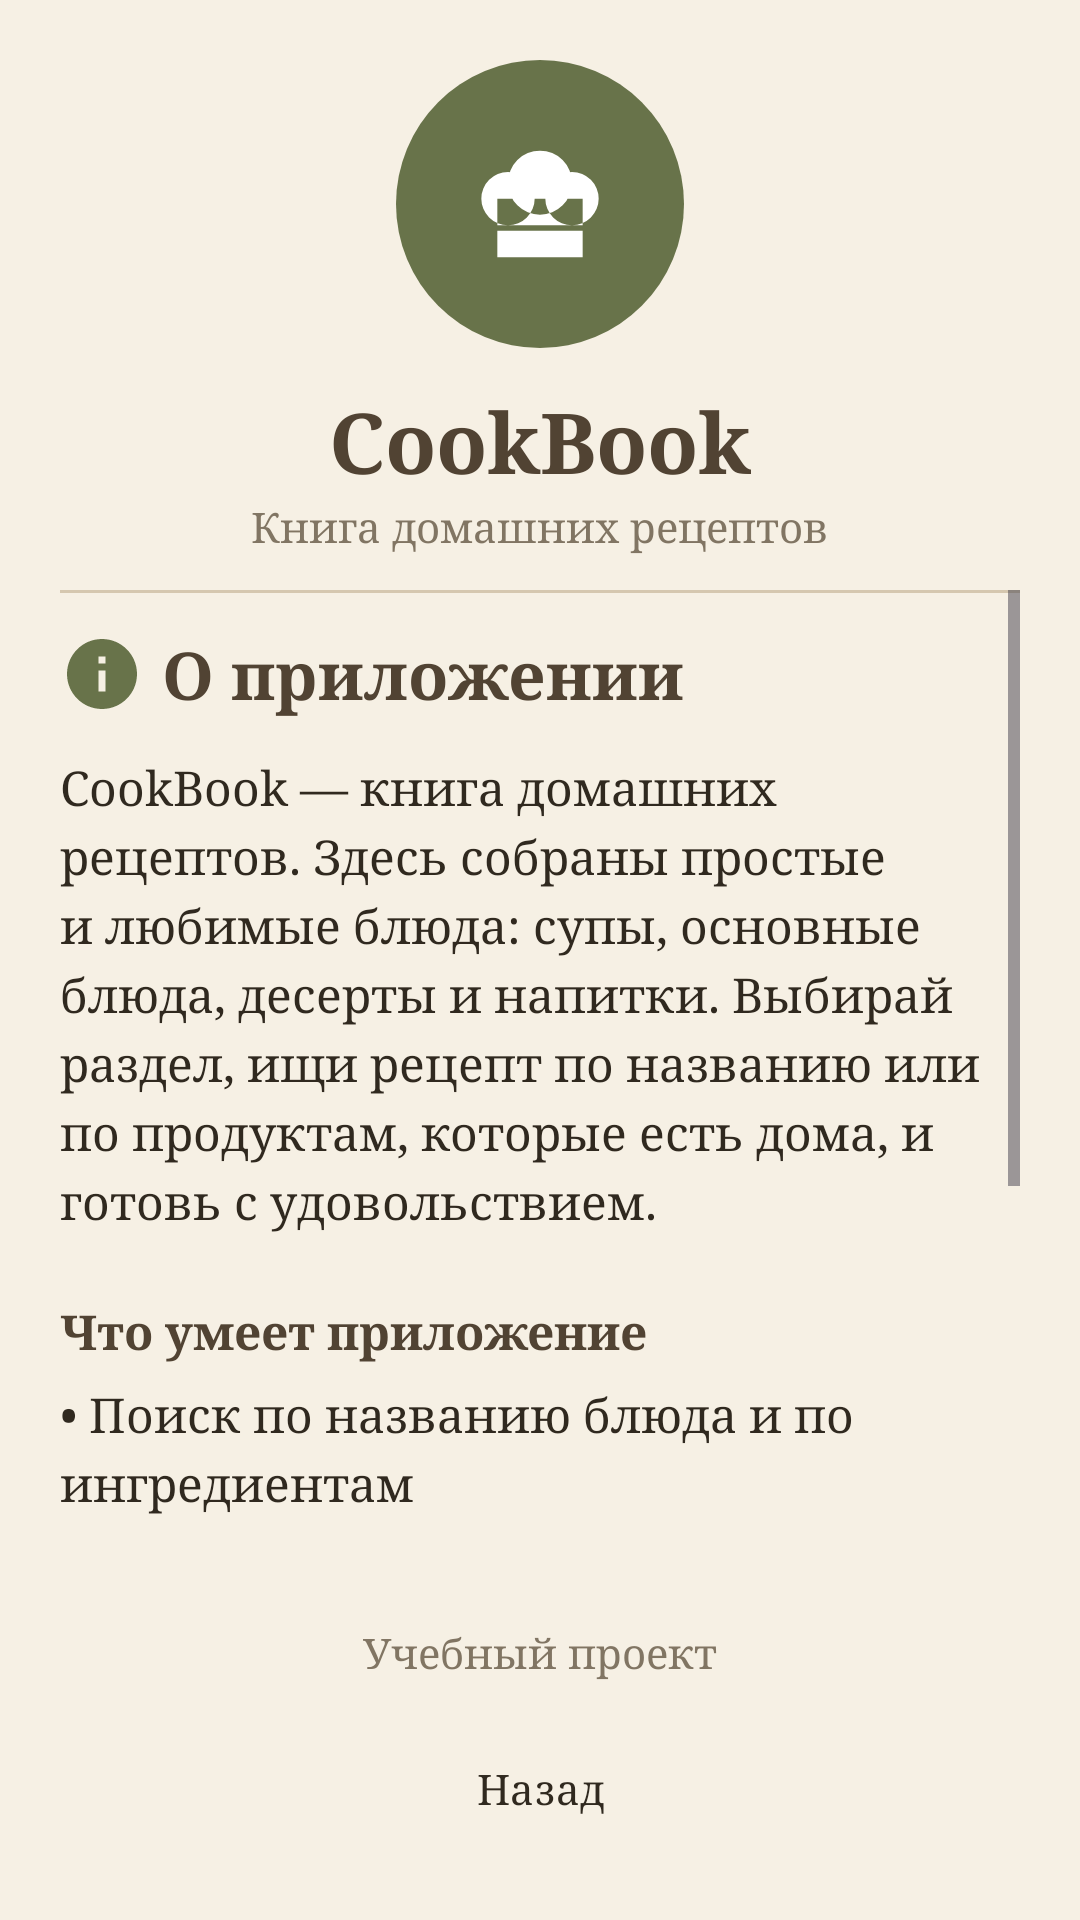

Locate icon controls on the screen. Image size 1080 x 1920, boxes as (x1,y1,x2,y2).
info: (67,639,137,709)
